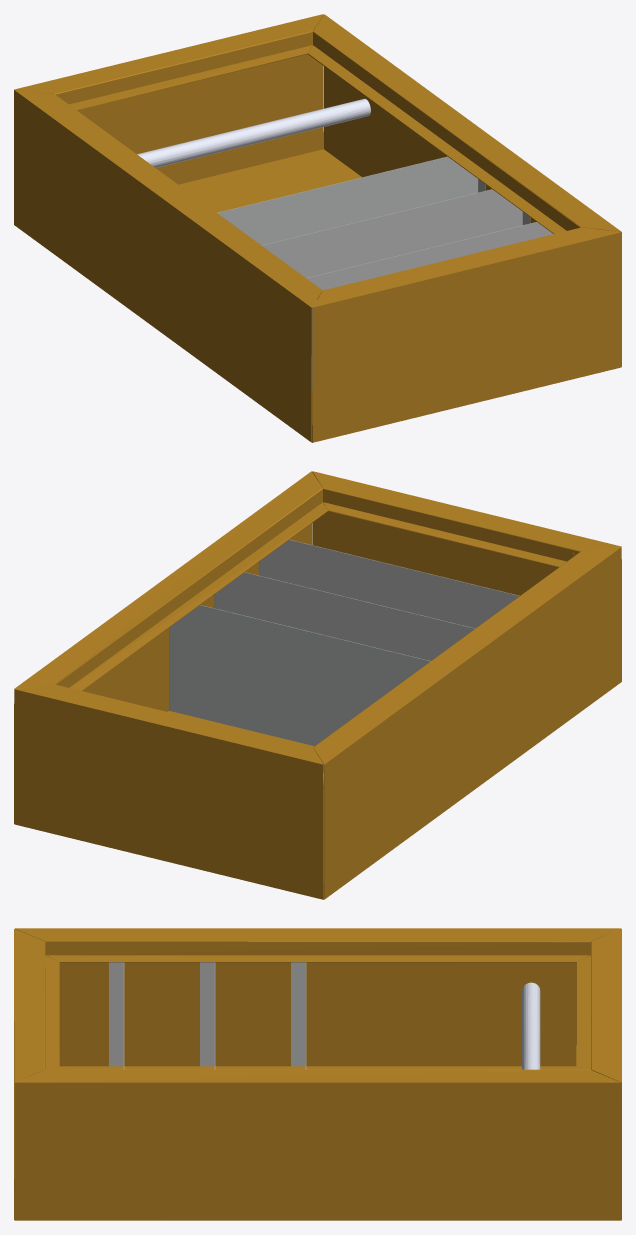
The model's file is cupboard_body.dae.
3 views of the same model, one above another, from view 1: azimuth 30°, elevation 25°; view 2: azimuth 150°, elevation 25°; view 3: azimuth 270°, elevation 25° (orthographic).
Parts seen in each view (by area): view 1: node0, node2, node1, node4, node3; view 2: node0, node1, node3, node2; view 3: node0, node3, node2, node1, node4.
Boxes of the visible parts, x1=… form: node0: x1=14, y1=14, x2=621, y2=442; node2: x1=262, y1=189, x2=530, y2=277; node1: x1=217, y1=156, x2=485, y2=245; node4: x1=137, y1=98, x2=370, y2=167; node3: x1=306, y1=222, x2=553, y2=389; node0: x1=14, y1=471, x2=621, y2=899; node1: x1=169, y1=605, x2=430, y2=746; node3: x1=258, y1=539, x2=519, y2=628; node2: x1=214, y1=572, x2=475, y2=660; node0: x1=14, y1=928, x2=621, y2=1220; node3: x1=109, y1=962, x2=124, y2=1069; node2: x1=200, y1=962, x2=215, y2=1069; node1: x1=291, y1=962, x2=306, y2=1069; node4: x1=522, y1=982, x2=540, y2=1069.
Bounding box in the file's own units: 1.21 × 2.01 × 0.5032.
